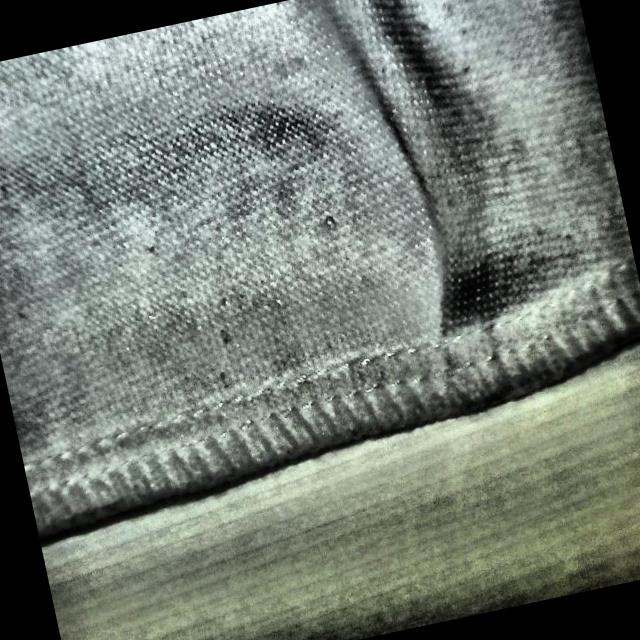gray stitch: (370, 116, 543, 422)
